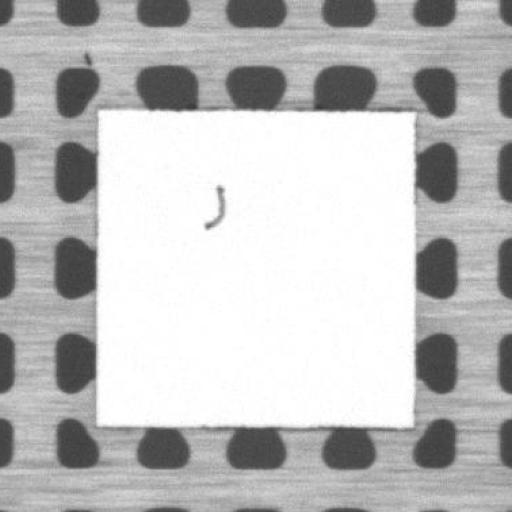DIE_INK: (204, 184, 225, 231)
